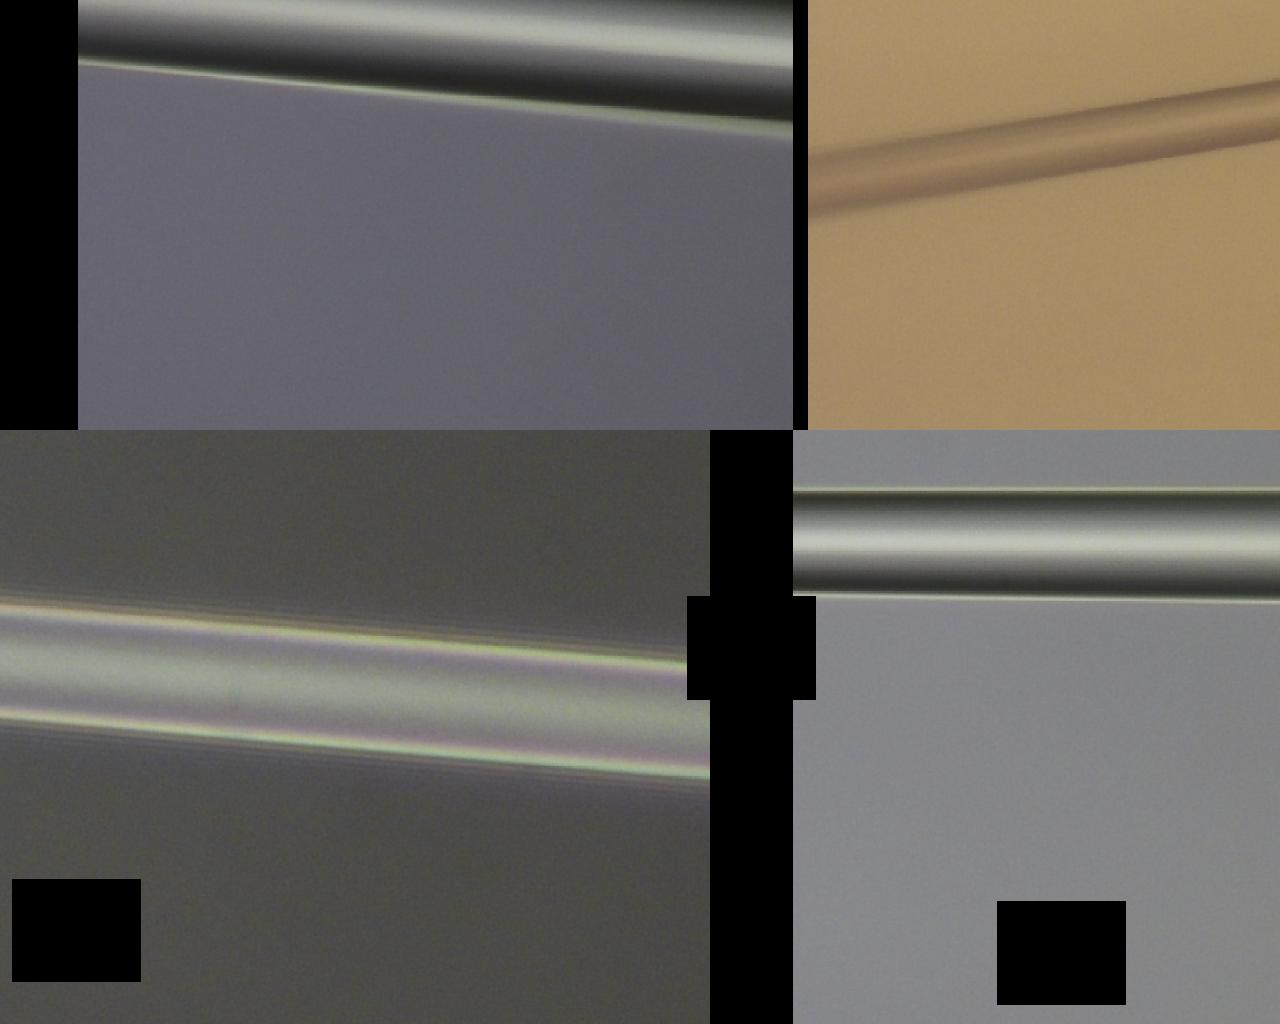fiber: (614, 440, 1280, 894), (74, 0, 359, 440), (775, 0, 921, 440), (507, 440, 526, 1024)
